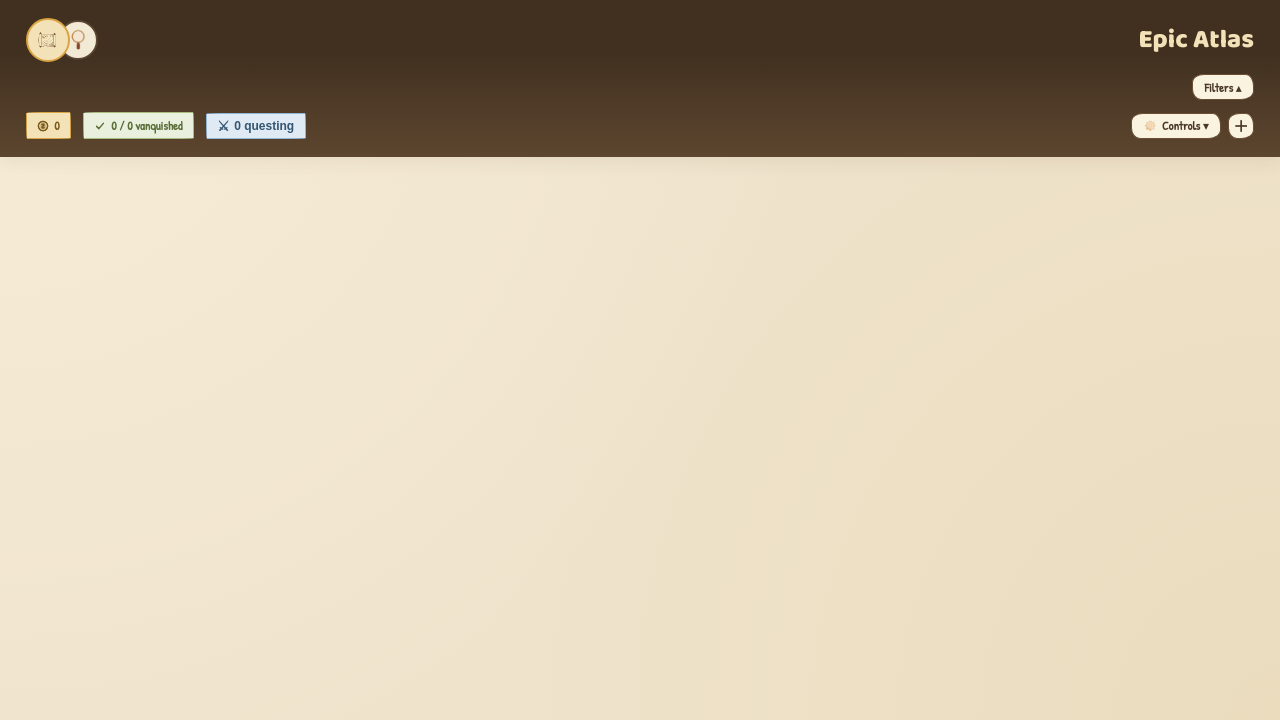
Scenario: <TopBar/> Epic Atlas controls (WF-091) › renders the atlas controls on the atlas view
Click the button "Controls ▾": {"x": 1176, "y": 126} x1=1131 y1=113 x2=1221 y2=139
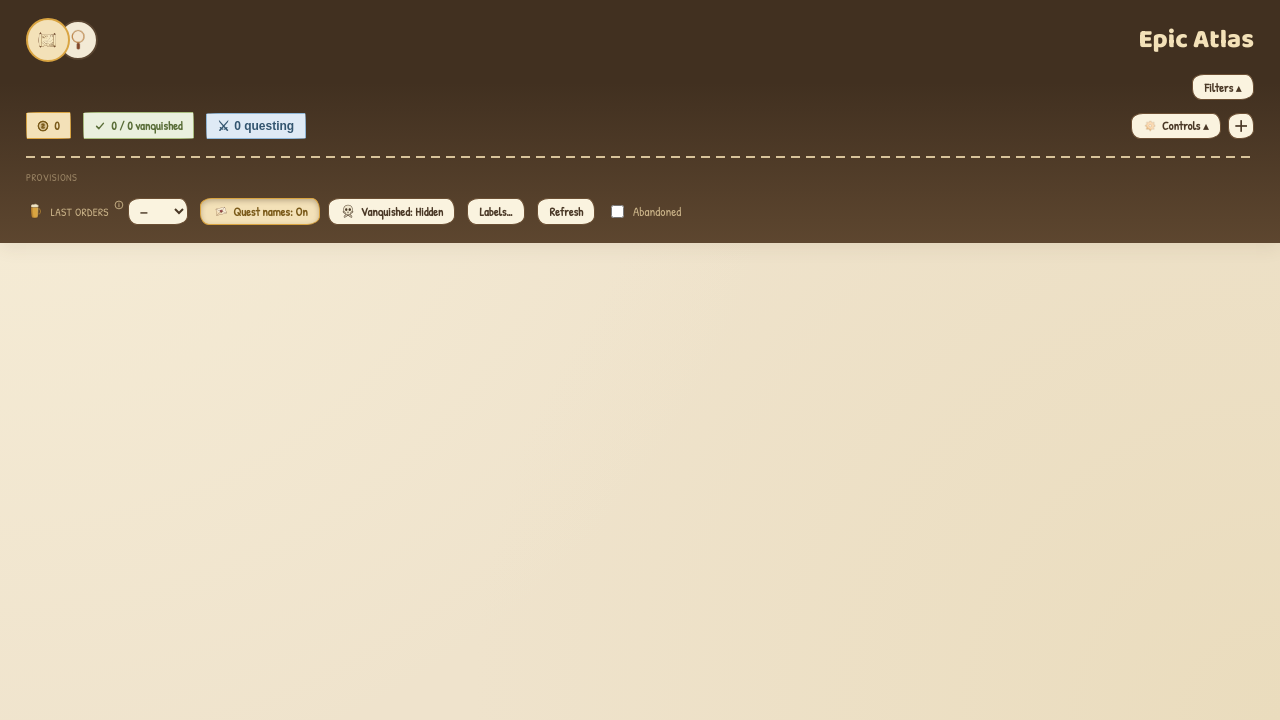
Now the button "Quest names: On" is shown, box x1=200 y1=198 x2=320 y2=225
Now the button "Vanquished: Hidden" is shown, box x1=328 y1=198 x2=455 y2=225
